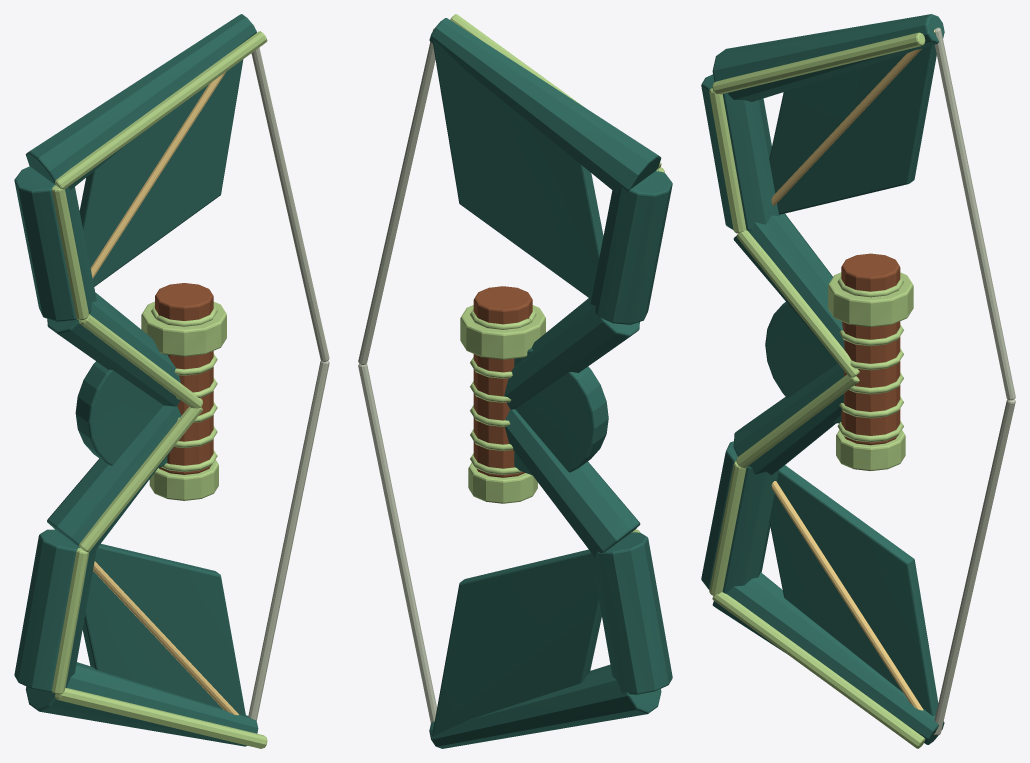
File: item_032.glb
3 views of the same model, side by side, from view 1: azimuth 30°, elevation 25°; view 2: azimuth 150°, elevation 25°; view 3: azimuth 330°, elevation 25° (orthographic).
Parts seen in each view (by area): view 1: Item_032_lily_foldingbow; view 2: Item_032_lily_foldingbow; view 3: Item_032_lily_foldingbow.
Boxes of the visible parts, x1=… form: Item_032_lily_foldingbow: x1=14, y1=14, x2=329, y2=748; Item_032_lily_foldingbow: x1=358, y1=14, x2=672, y2=748; Item_032_lily_foldingbow: x1=701, y1=14, x2=1015, y2=748.
Bounding box in the file's own units: 0.6165 × 1.38 × 0.1472.
